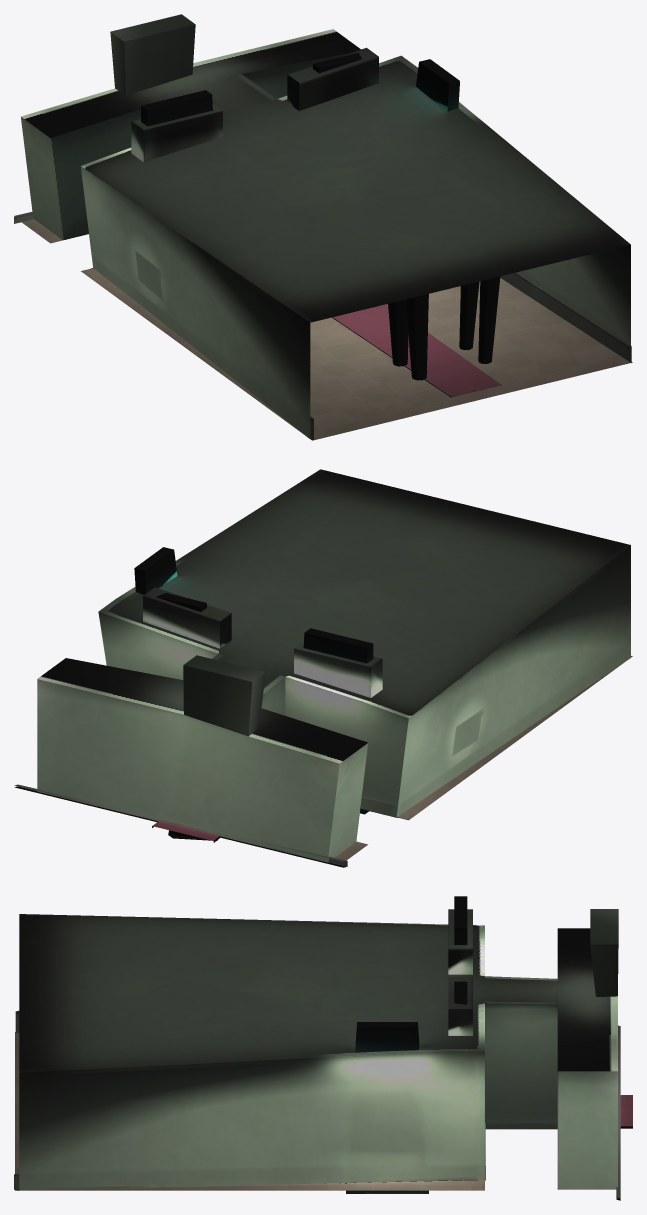
File: lobbyMenu_UdenTavle.fbx
3 views of the same model, one above another, from view 1: azimuth 30°, elevation 25°; view 2: azimuth 150°, elevation 25°; view 3: azimuth 270°, elevation 25° (orthographic). The views are drawn at different scales.
Parts seen in each view (by area): view 1: polySurface42; view 2: polySurface42; view 3: polySurface42.
Part boxes in pixels (x1=…): polySurface42: x1=14, y1=14, x2=632, y2=440; polySurface42: x1=14, y1=469, x2=632, y2=867; polySurface42: x1=14, y1=896, x2=632, y2=1200.
Size of the model in its own units: 30.84 by 16.35 by 47.59.
